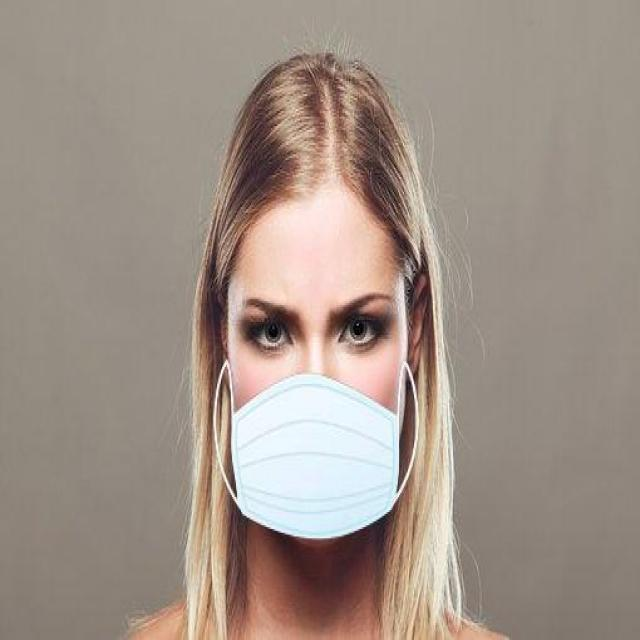1_mascarilla: (209, 358, 422, 543)
